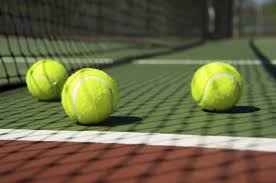tennis_ball: (61, 67, 119, 125), (191, 62, 242, 112), (25, 59, 69, 101)
